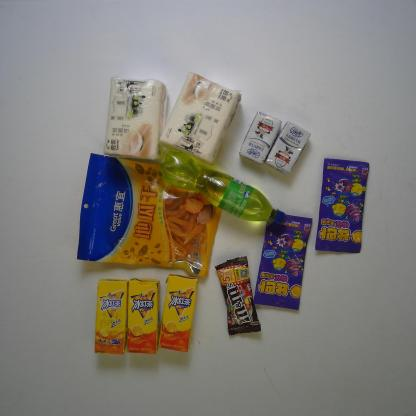Candy: (253, 214, 313, 311), (314, 158, 370, 254)
Chocolate: (214, 255, 261, 336)
Dried Fruit: (76, 152, 222, 278)
Drink: (158, 149, 286, 225), (158, 273, 198, 353), (93, 278, 128, 355), (127, 278, 160, 354)
Milk: (265, 121, 310, 175), (238, 111, 282, 166)
Tissue: (158, 71, 242, 165), (103, 76, 169, 161)
